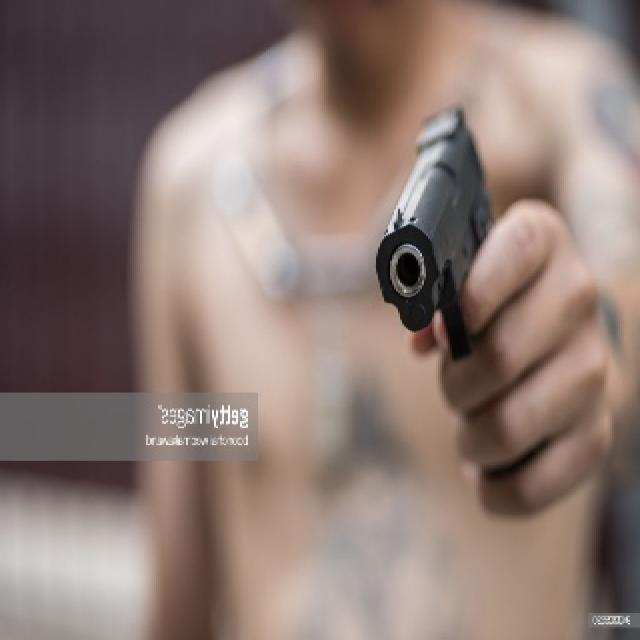handgun: (369, 102, 499, 360)
